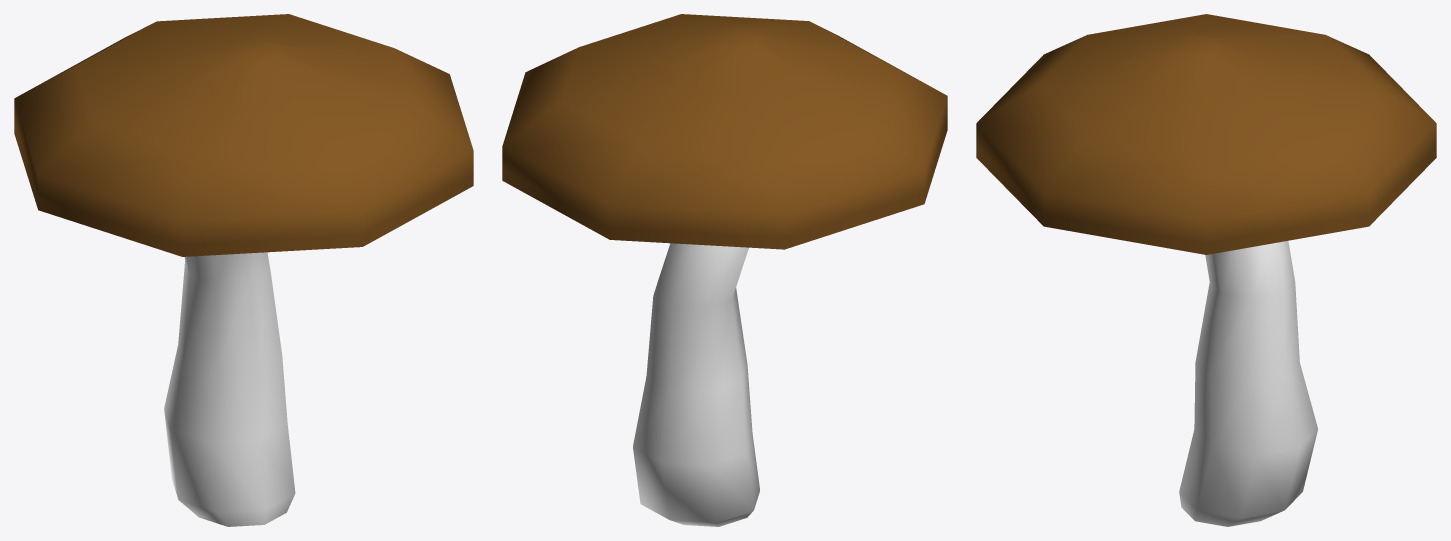
File: two_mushrooms.fbx
3 views of the same model, side by side, from view 1: azimuth 30°, elevation 25°; view 2: azimuth 150°, elevation 25°; view 3: azimuth 270°, elevation 25° (orthographic). The views are drawn at different scales.
Parts seen in each view (by area): view 1: two_mushrooms; view 2: two_mushrooms; view 3: two_mushrooms.
Boxes of the visible parts, left/top/right/bottom form: two_mushrooms: left=14, top=14, right=473, bottom=526; two_mushrooms: left=502, top=14, right=947, bottom=526; two_mushrooms: left=976, top=14, right=1436, bottom=526.
Bounding box in the file's own units: 172 × 189 × 172.
